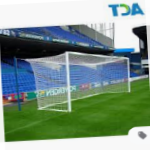goals: (30, 48, 131, 114)
